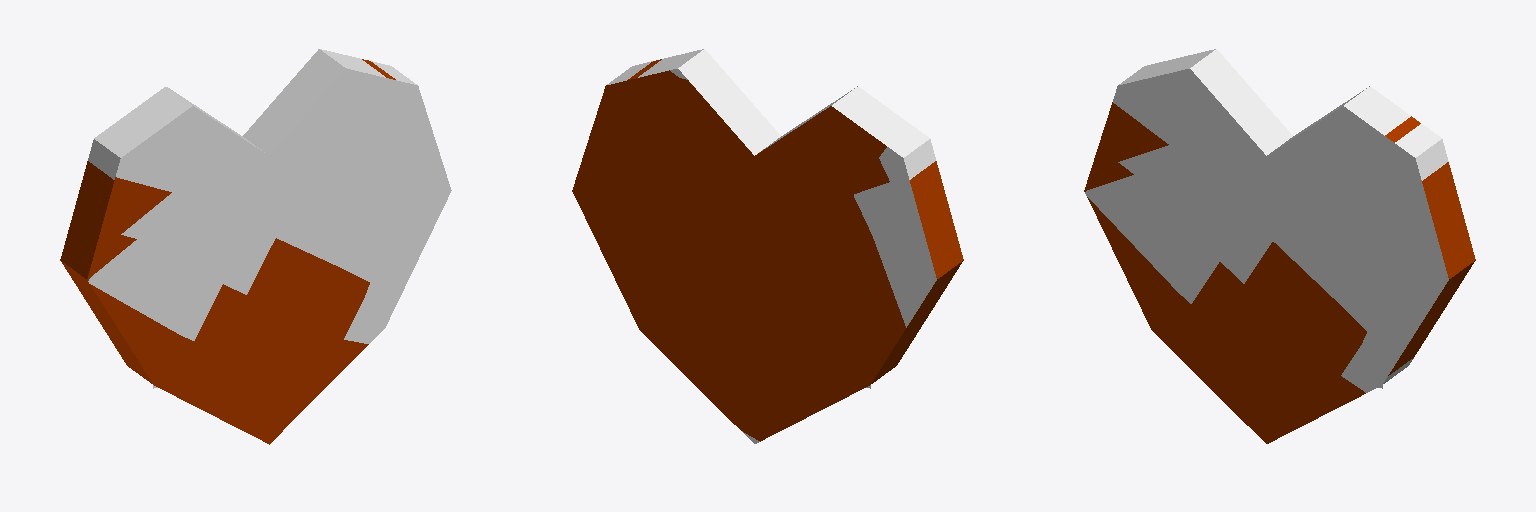
3 renders of one model, left to right at view 1: azimuth 30°, elevation 25°; view 2: azimuth 150°, elevation 25°; view 3: azimuth 330°, elevation 25°, orthographic.
Size of the model in its own units: 18.62 by 17.44 by 2.39.
2 materials, 1 textured.